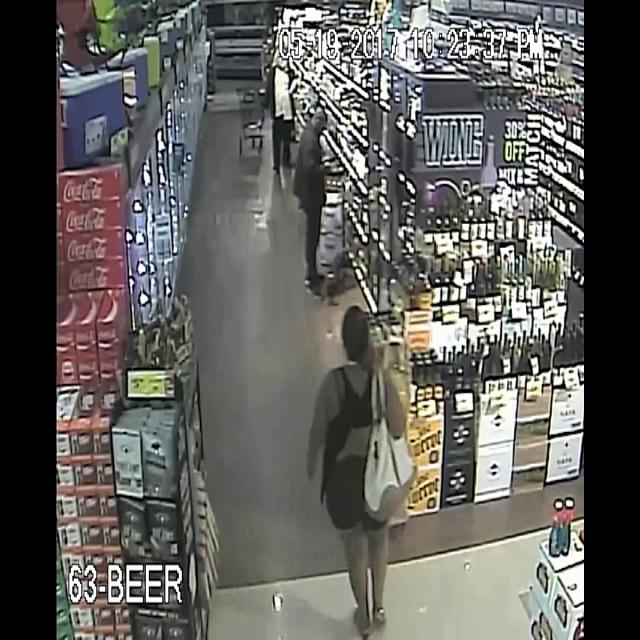Product: (325, 149, 338, 169)
normal: (289, 281, 418, 631), (258, 44, 297, 174)
shoplifting: (288, 92, 348, 297)
